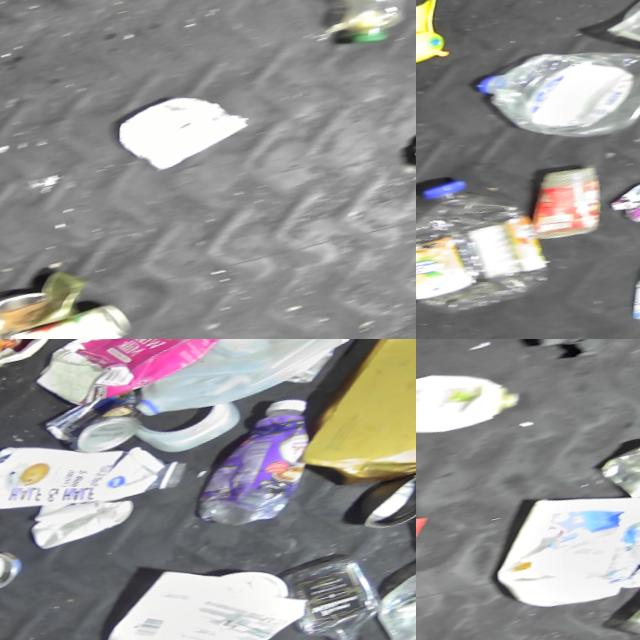can: (7, 296, 151, 339), (72, 391, 149, 456), (357, 466, 416, 531), (596, 432, 640, 506), (612, 153, 640, 227), (0, 542, 35, 595)
milk_jug: (92, 537, 332, 640), (482, 467, 640, 621), (119, 339, 371, 423)
non_white_jug: (25, 339, 255, 416)
plastic_bottle: (416, 157, 575, 326), (471, 21, 640, 161), (284, 543, 405, 640), (296, 0, 416, 55), (616, 559, 640, 639)
